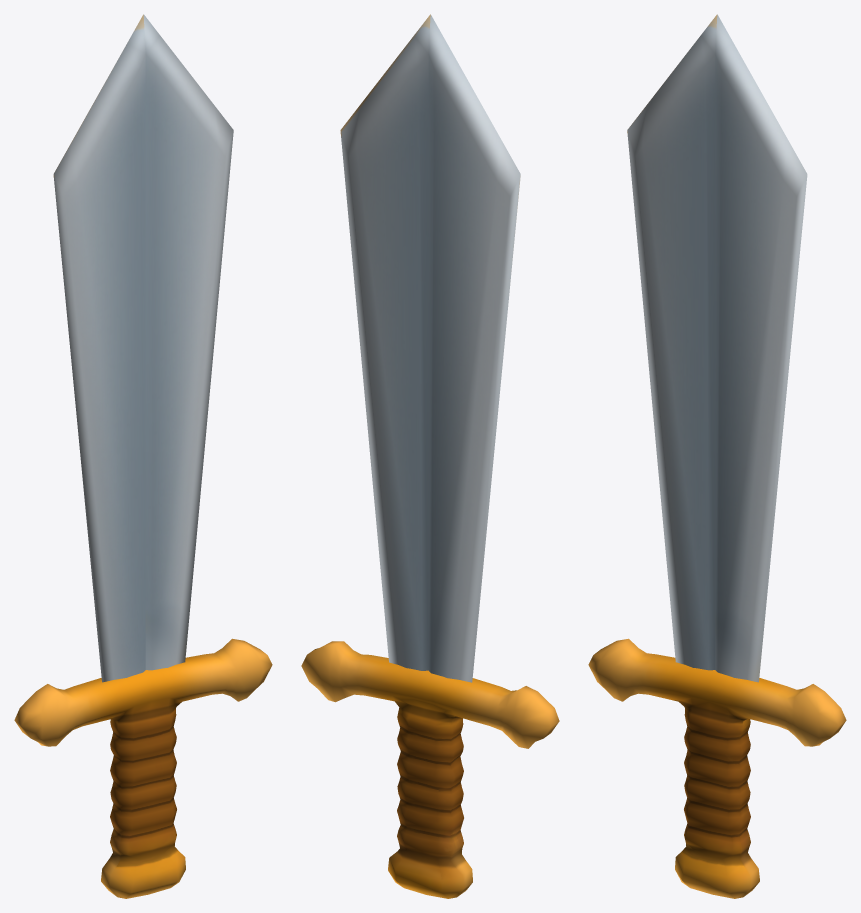
File: Basic Sword.fbx
3 views of the same model, side by side, from view 1: azimuth 30°, elevation 25°; view 2: azimuth 150°, elevation 25°; view 3: azimuth 330°, elevation 25° (orthographic).
Parts seen in each view (by area): view 1: Balde LP, Handle LP; view 2: Balde LP, Handle LP; view 3: Balde LP, Handle LP.
Part boxes in pixels (x1,y1,x2,y2): Balde LP: (53,14,233,682); Handle LP: (14,638,272,898); Balde LP: (340,14,520,682); Handle LP: (301,641,559,898); Balde LP: (627,14,807,682); Handle LP: (588,638,846,898).
Bounding box in the file's own units: 148 × 495 × 24.43.
